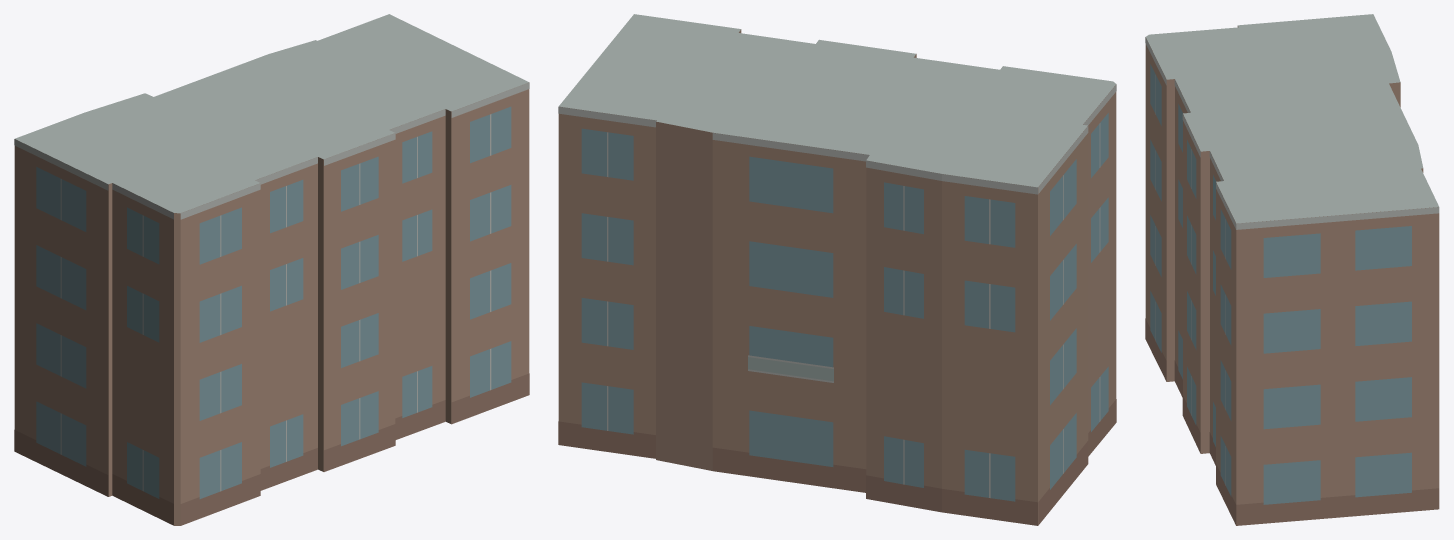
The model's file is survey-upis-32545139.glb.
3 renders of one model, left to right at view 1: azimuth 30°, elevation 25°; view 2: azimuth 150°, elevation 25°; view 3: azimuth 270°, elevation 25°, orthographic. The views are drawn at different scales.
Parts seen in each view (by area): view 1: survey-upis-32545139.tmp; view 2: survey-upis-32545139.tmp; view 3: survey-upis-32545139.tmp.
Part boxes in pixels (bbox=[...]): survey-upis-32545139.tmp: bbox=[14, 14, 529, 525]; survey-upis-32545139.tmp: bbox=[558, 14, 1116, 525]; survey-upis-32545139.tmp: bbox=[1145, 14, 1439, 525].
Size of the model in its own units: 17.18 by 11.55 by 10.18.
